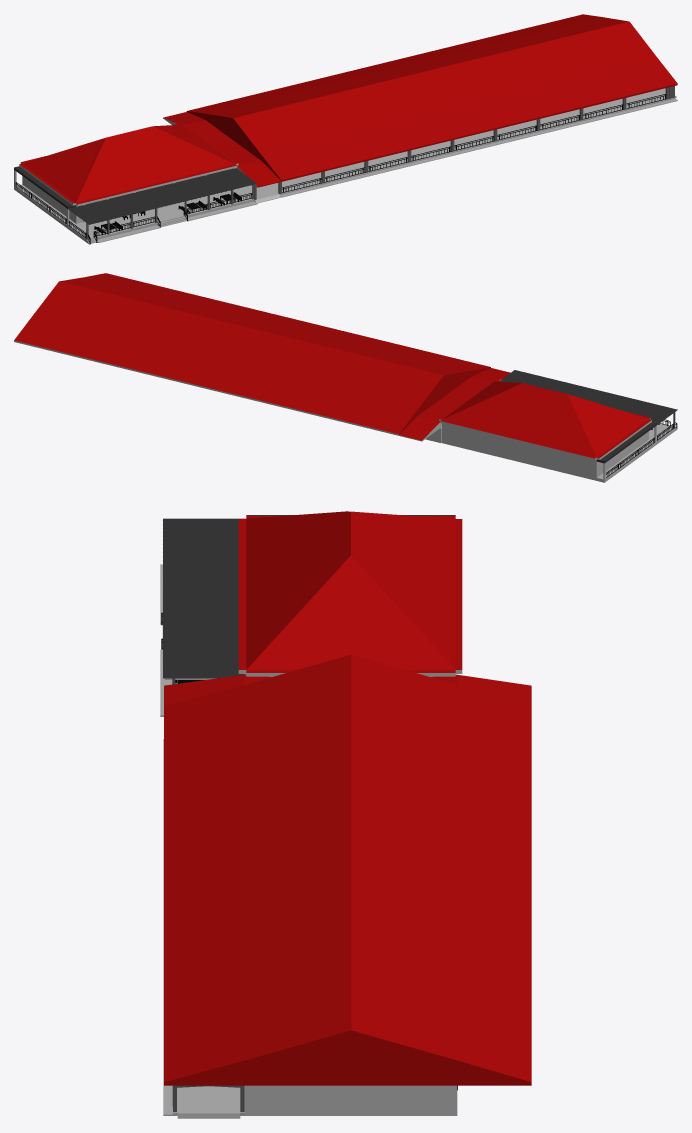
The model's file is COS.fbx.
The picture shows the model from 3 angles, top to bottom: view 1: azimuth 30°, elevation 25°; view 2: azimuth 150°, elevation 25°; view 3: azimuth 270°, elevation 25°; orthographic projection. The views are drawn at different scales.
Visible parts, largest first — view 1: COS Second Building, COS, Cube.002, Bars, Pillar; view 2: COS Second Building, COS, Cube.002; view 3: COS Second Building, COS, Cube.002.
Part boxes in pixels (x1,y1,x2,y2): COS Second Building: [163, 14, 677, 203]; COS: [14, 123, 257, 244]; Cube.002: [68, 168, 256, 224]; Bars: [282, 94, 665, 192]; Pillar: [278, 87, 669, 193]; COS Second Building: [14, 273, 510, 442]; COS: [439, 380, 677, 482]; Cube.002: [500, 370, 677, 424]; COS Second Building: [163, 654, 531, 1118]; COS: [160, 511, 462, 716]; Cube.002: [163, 518, 244, 678].
Bounding box in the file's own units: 38764 × 3536 × 10846.
